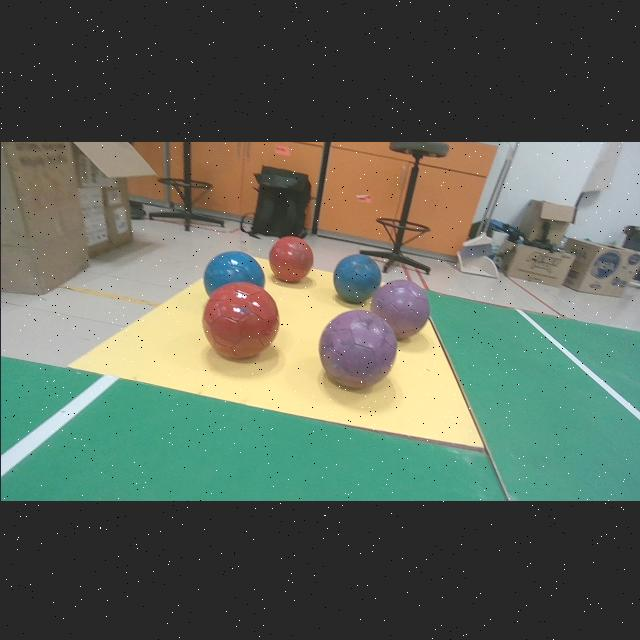B: (203, 250, 264, 294), (332, 252, 380, 301)
P: (318, 309, 396, 386), (370, 278, 429, 338)
R: (201, 281, 279, 357), (269, 234, 312, 281)
